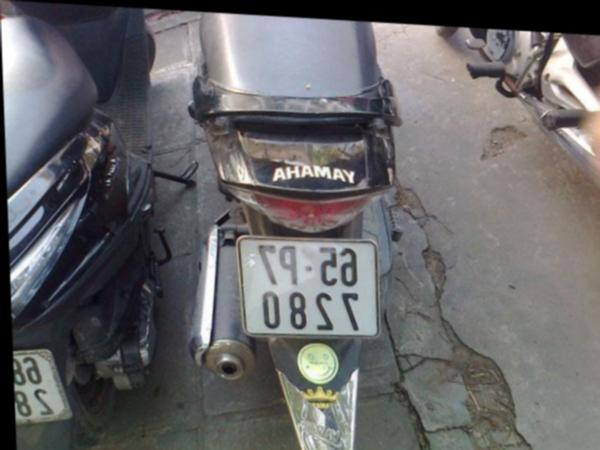License_Plate: (241, 233, 379, 338)
